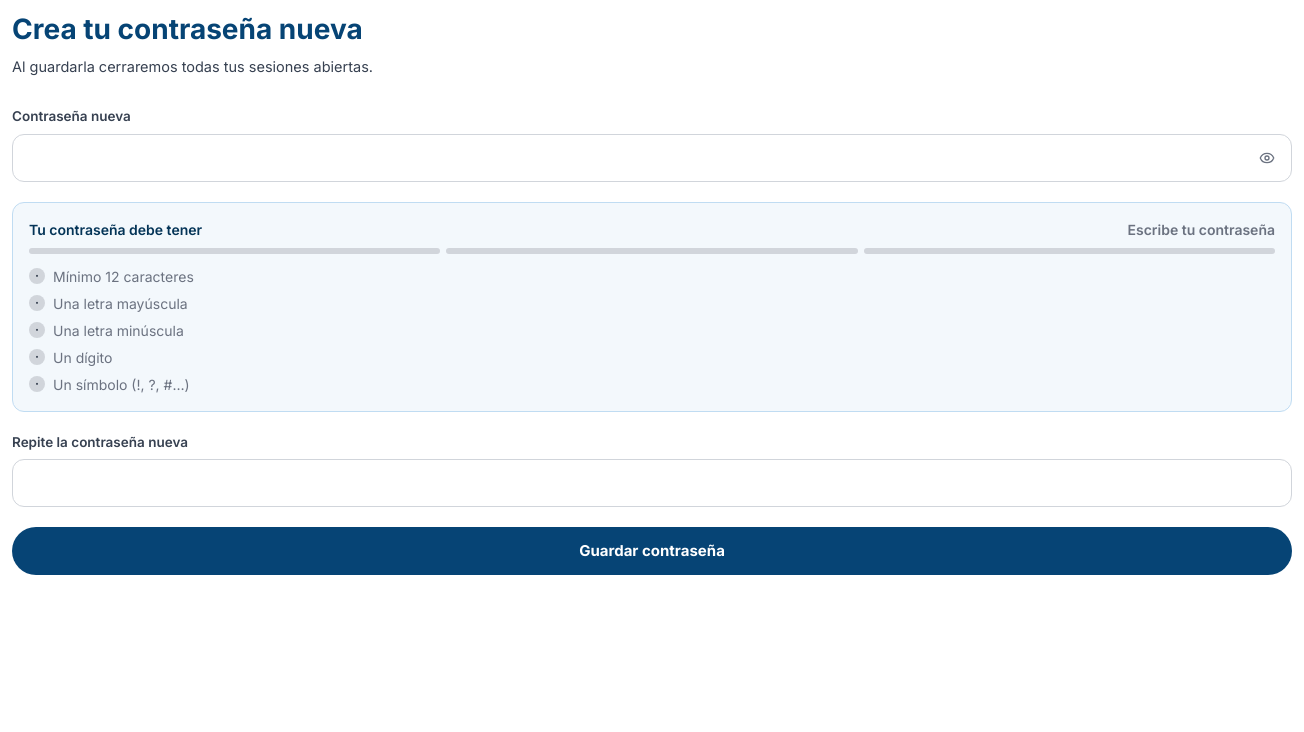
Test: FormularioDeContrasenaNueva › si el enlace caduca mientras escribe, muestra que ya no es válido
Expected: the heading "Crea tu contraseña nueva" is shown, [12,12,363,46]
Step 1. Type "Nueva!Clave2026#" into the password field labelled "Contraseña nueva" → (628, 158), box [13,146,1243,170]
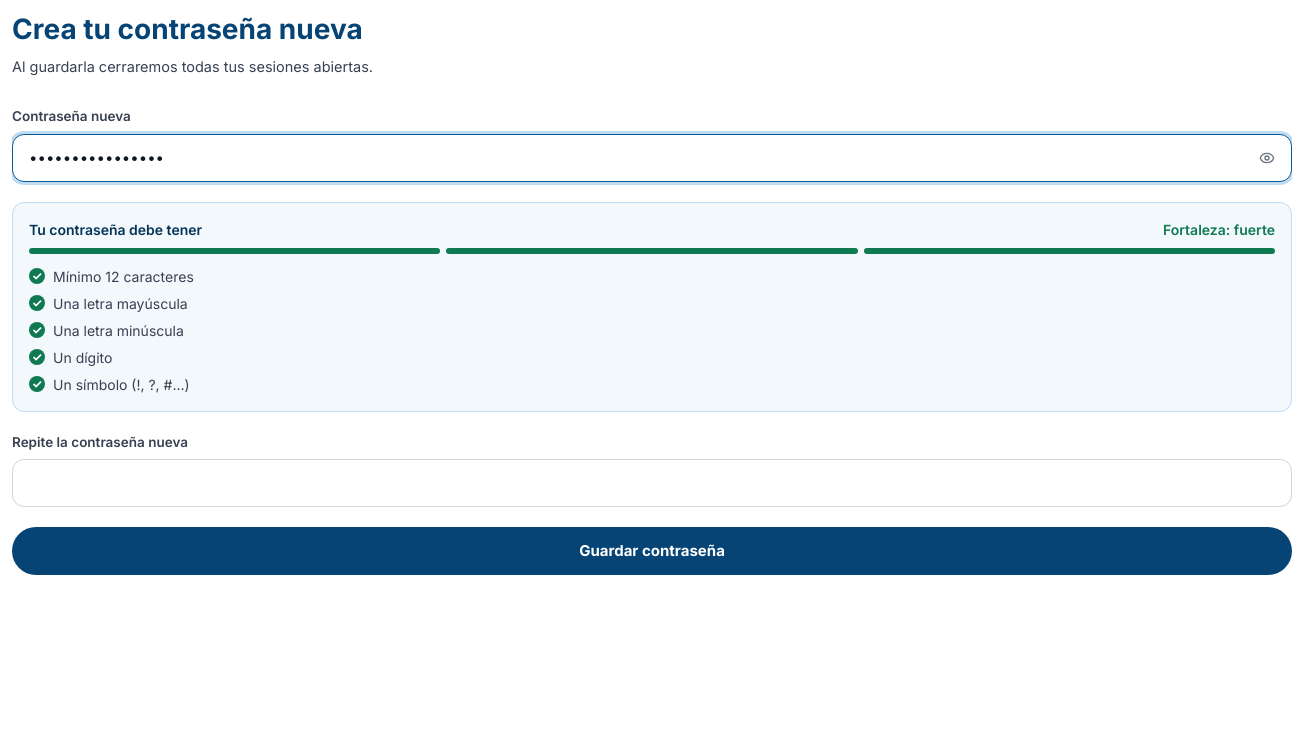
Step 2. Type "Nueva!Clave2026#" into the password field labelled "Repite la contraseña nueva" → (652, 483), box [13,471,1291,495]
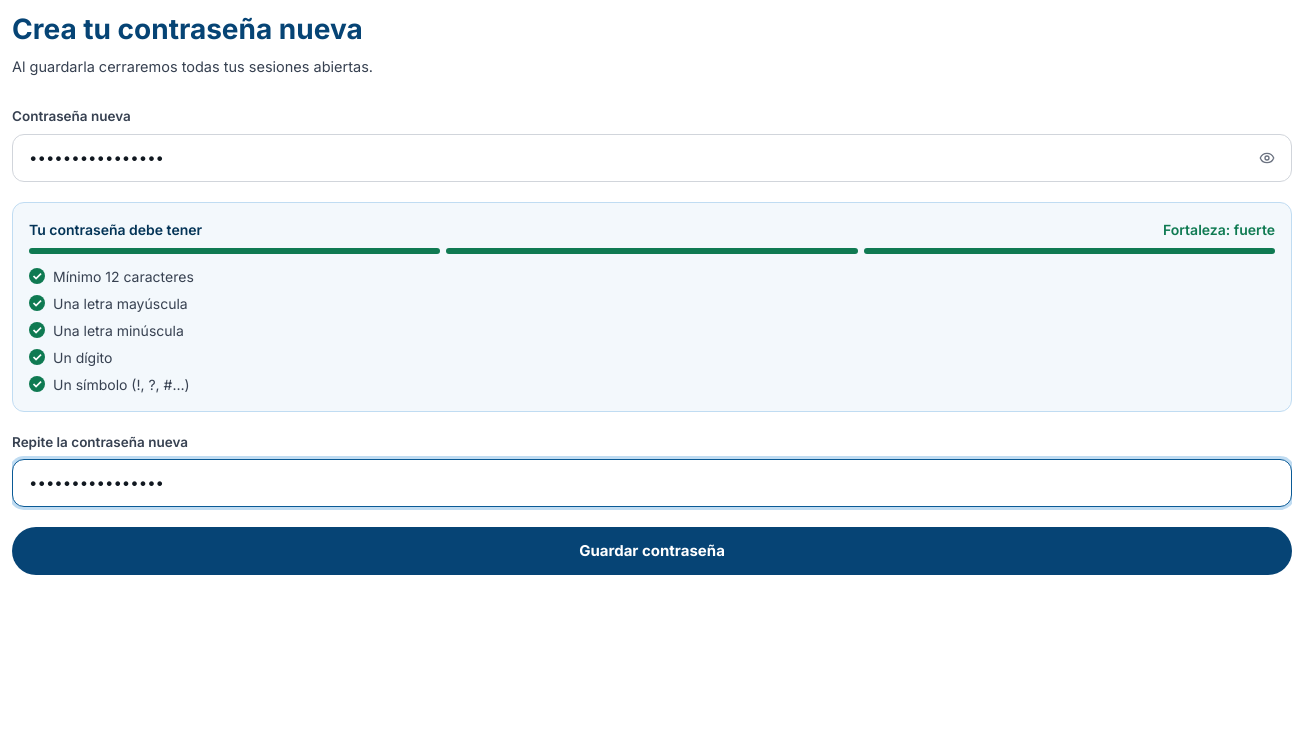
Step 3. Click the button "Guardar contraseña" → (652, 551), box [12,527,1292,575]
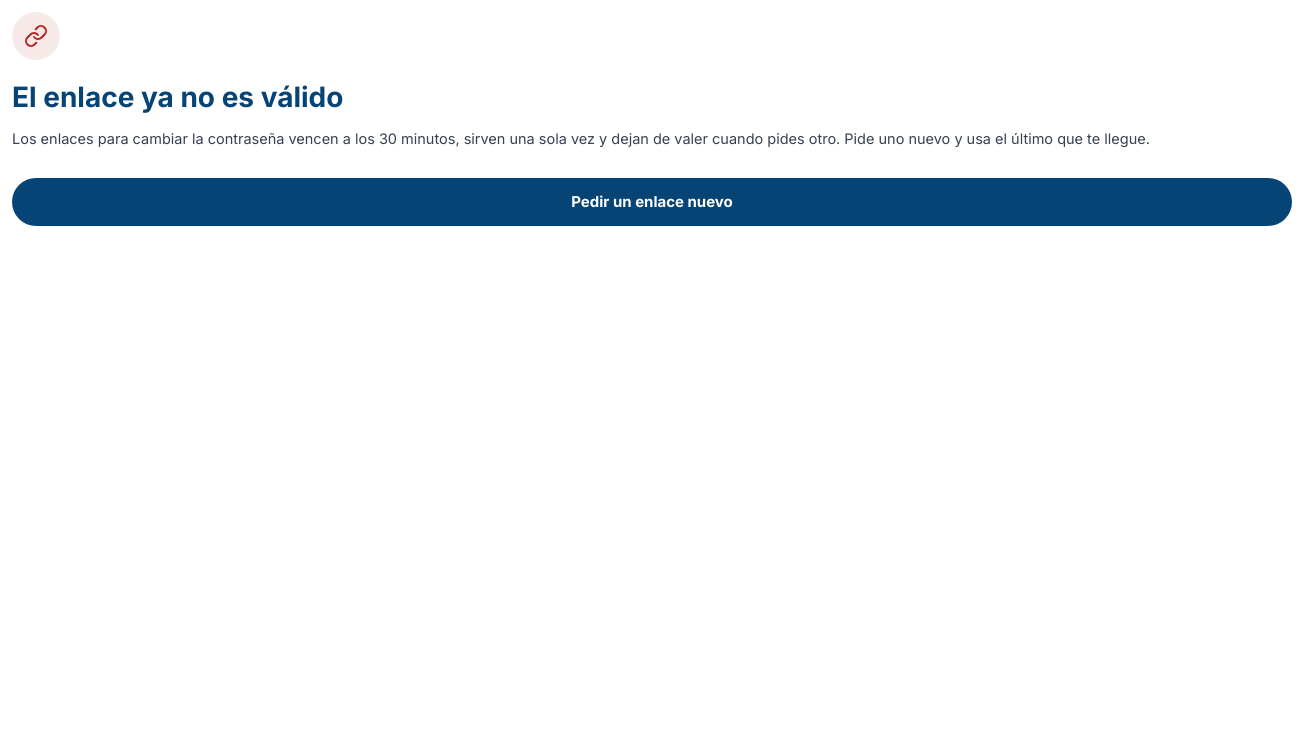
Expected: the heading "El enlace ya no es válido" is shown, [12,80,343,114]
